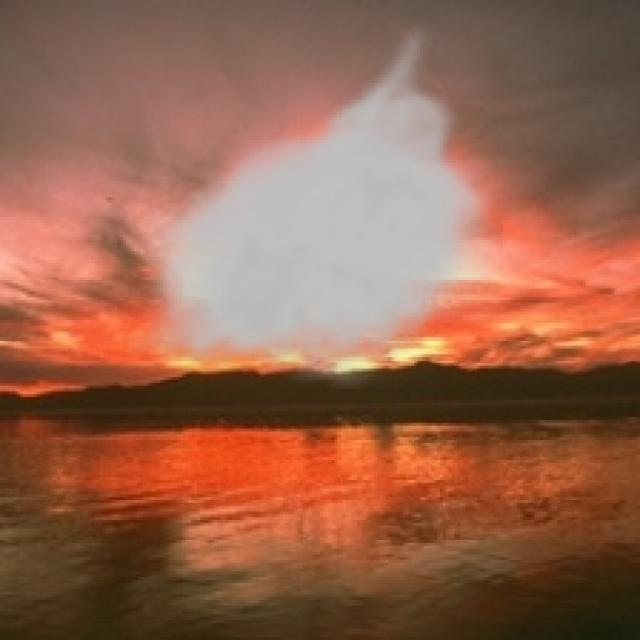smoke: (123, 17, 503, 389)
